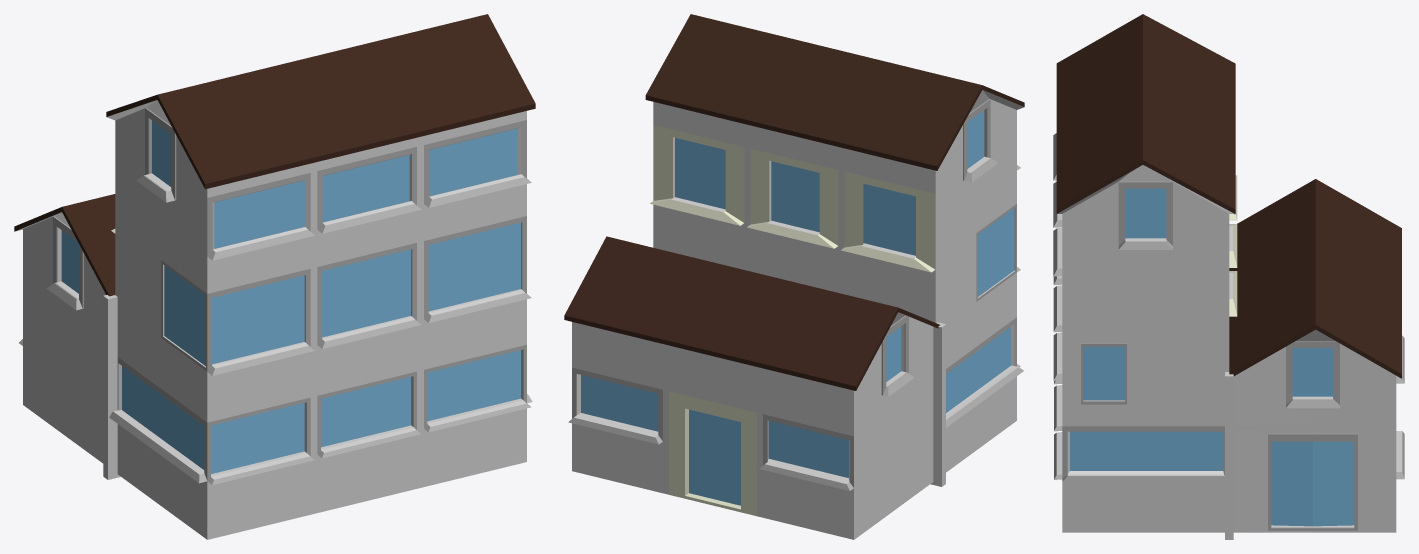
The model's file is buildings_02.fbx.
3 views of the same model, side by side, from view 1: azimuth 30°, elevation 25°; view 2: azimuth 150°, elevation 25°; view 3: azimuth 270°, elevation 25° (orthographic). The views are drawn at different scales.
Visible parts, largest first — view 1: building_005; view 2: building_005; view 3: building_005.
Part boxes in pixels (box(x1,y1,x2,y2)): building_005: box(14, 14, 535, 539); building_005: box(564, 14, 1024, 539); building_005: box(1053, 14, 1404, 539).
Size of the model in its own units: 202 by 237 by 200.
